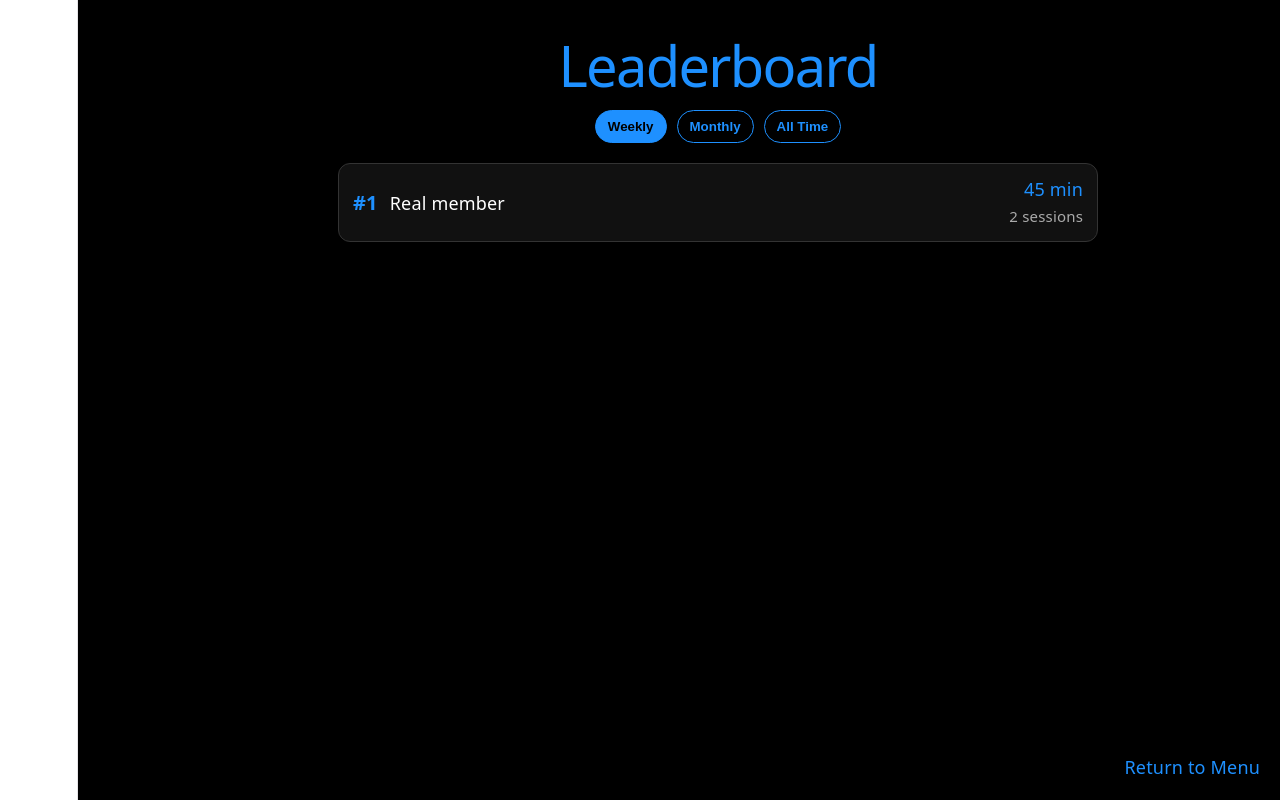
Test: Leaderboard › displays server-derived rankings and requests the chosen period
The width and height of the screenshot is (1280, 800).
expect the text "Real member" is shown: met, box [390,191,505,215]
expect the text "45 min" is shown: met, box [1009,176,1083,229]
Step 1. Click the button "Monthly" → (715, 127), box [676,110,754,143]
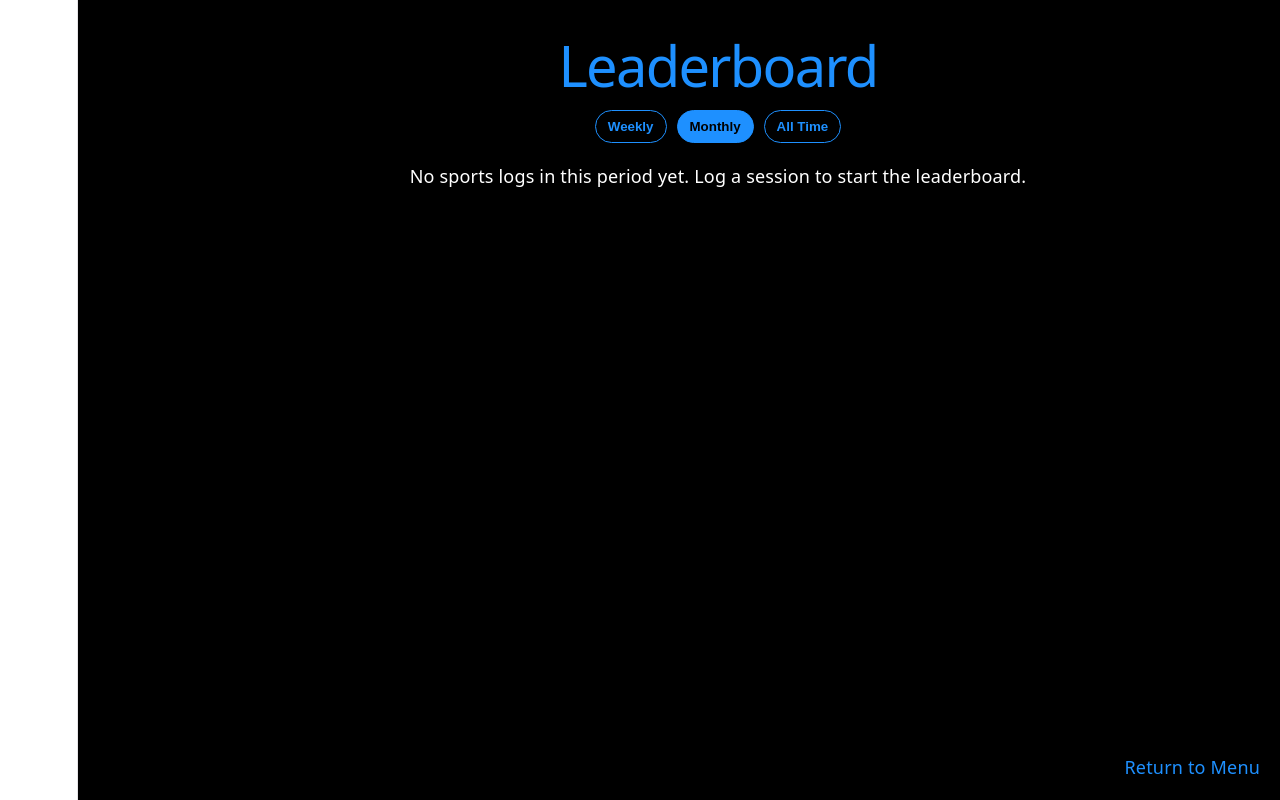
expect the text "No sports logs in this period yet. Log a session to start the leaderboard." is shown: met, box [410,164,1026,188]
